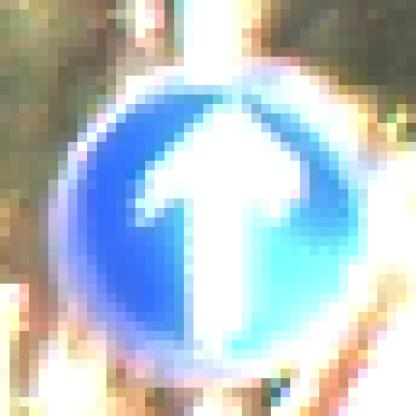AheadOnly: (49, 48, 369, 370)
